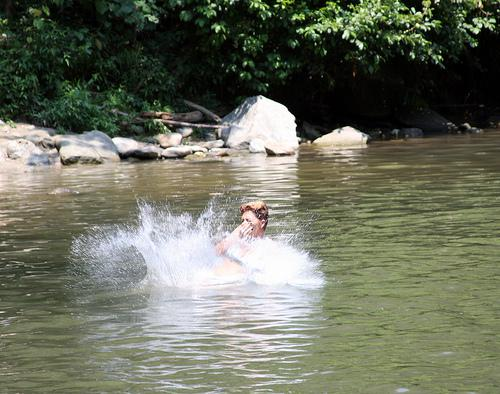swimmer: (214, 200, 271, 260)
